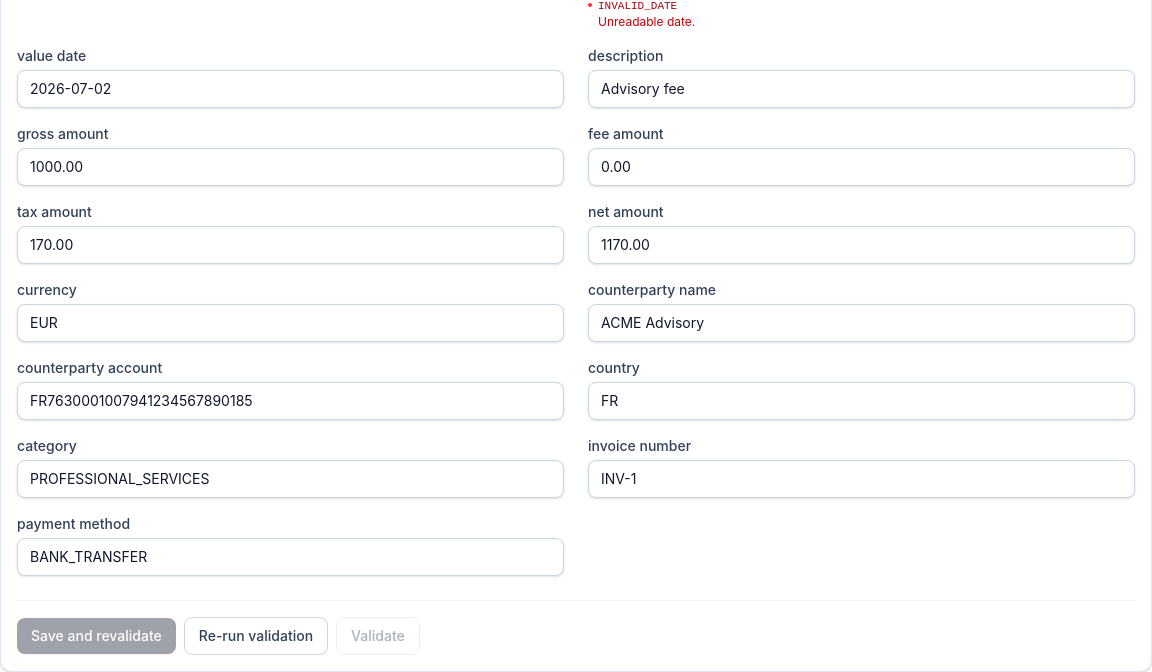
clicking Re-run validation › reports the outcome once the request resolves
(page scrolled)
Click the button "Re-run validation": (256, 636) 184,617 -> 328,655
(page scrolled)
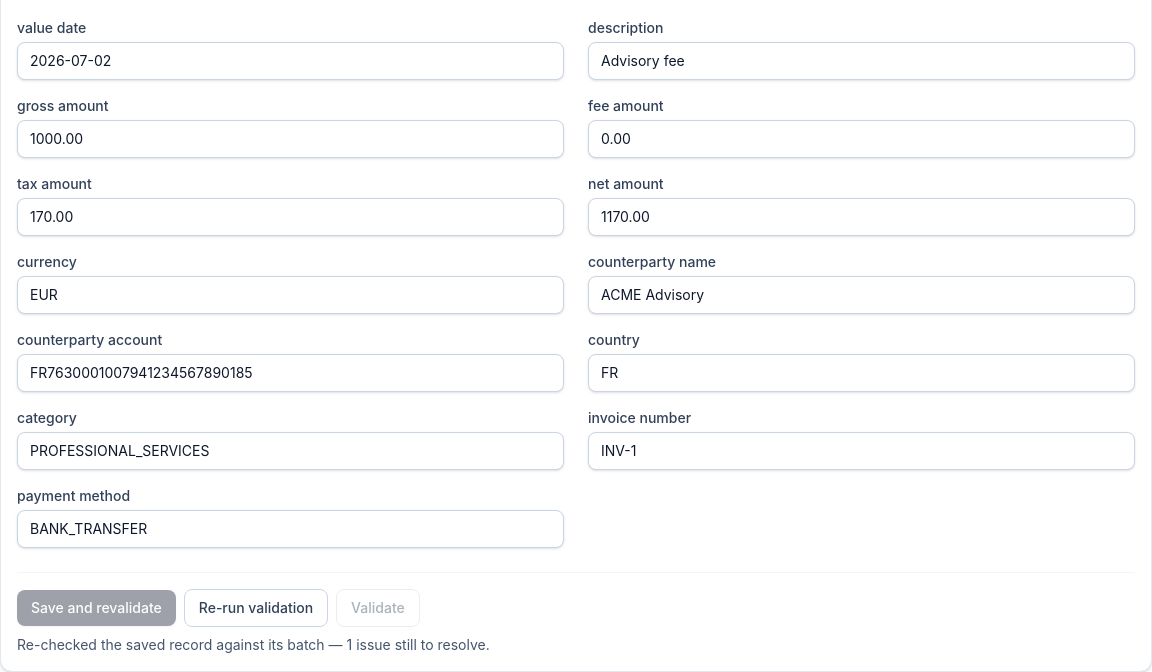
Result: the text "Re-checked the saved record against its batch — 1 issue still to resolve." is shown at 17,636 -> 490,653
